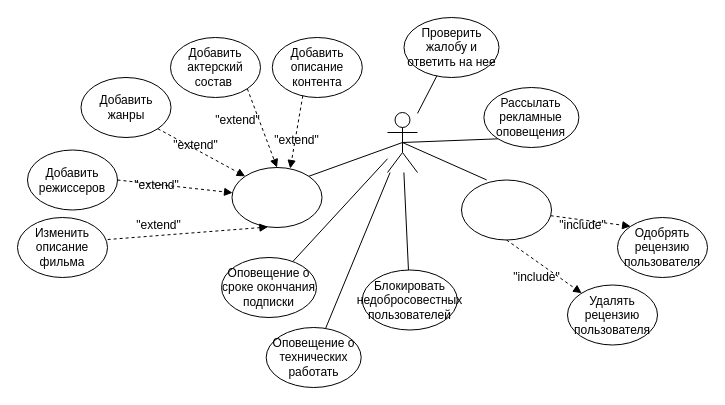
The diagram is 725 pixels wide and 405 high, and some of its shapes have lost their labels. The centre of each missing label's shape, as x and y in pixels:
Администратор сайта: the point at 402,142
Добавить контент: the point at 276,197
Модерация рецензий пользователей: the point at 506,209
